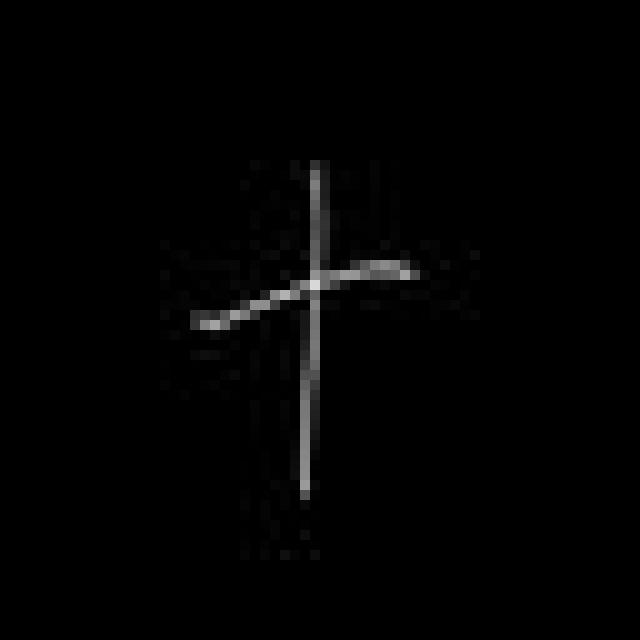10 -ten-: (184, 157, 418, 506)
